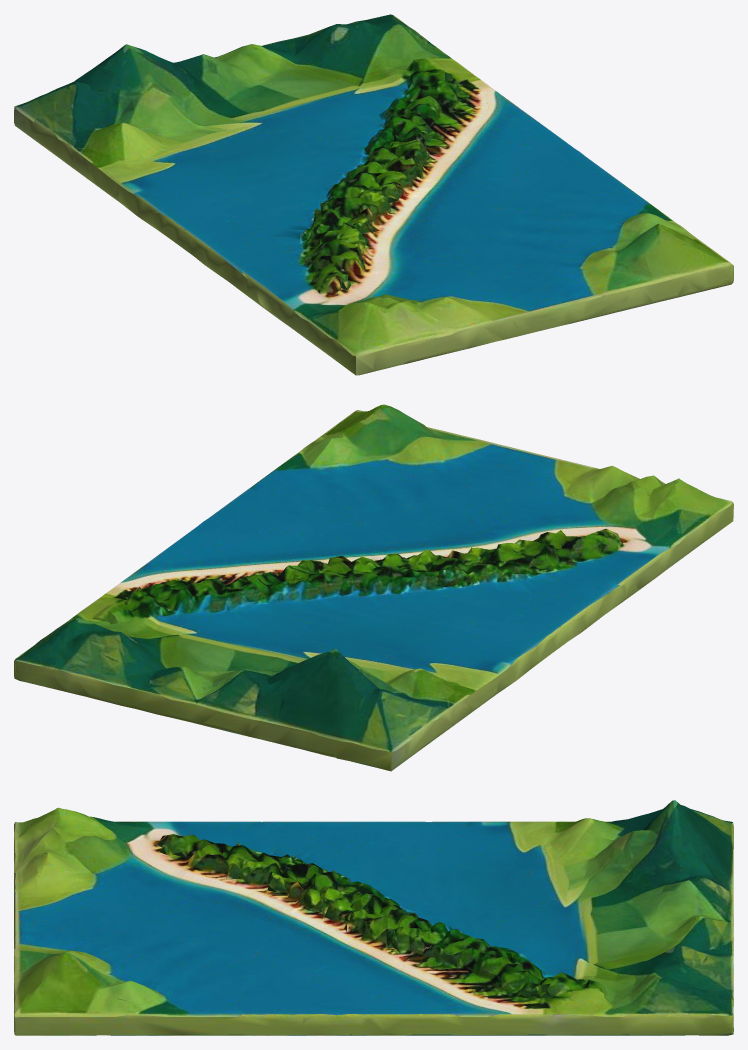
Rendered from amanohashidate.glb.
3 renders of one model, top to bottom at view 1: azimuth 30°, elevation 25°; view 2: azimuth 150°, elevation 25°; view 3: azimuth 270°, elevation 25°, orthographic. The views are drawn at different scales.
Visible parts, largest first — view 1: logan-textured.obj; view 2: logan-textured.obj; view 3: logan-textured.obj.
Boxes of the visible parts, left/top/right/bottom form: logan-textured.obj: left=14, top=14, right=733, bottom=375; logan-textured.obj: left=14, top=404, right=733, bottom=771; logan-textured.obj: left=14, top=800, right=733, bottom=1035.
Bounding box in the file's own units: 0.6387 × 0.1322 × 1.
Materials: 1 (1 with a texture image).
